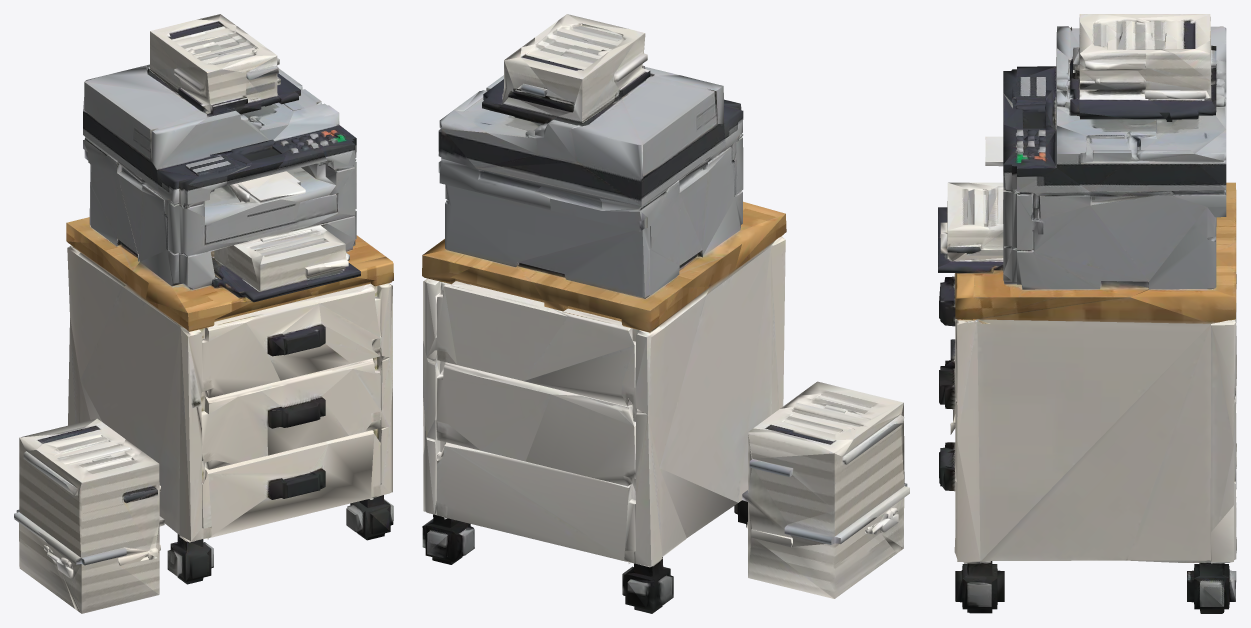
File: printer.glb
3 renders of one model, left to right at view 1: azimuth 30°, elevation 25°; view 2: azimuth 150°, elevation 25°; view 3: azimuth 270°, elevation 25°, orthographic. The views are drawn at different scales.
Bounding box in the file's own units: 1.46 × 2 × 1.03.
Materials: 1 (1 with a texture image).
